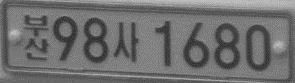0: (244, 23, 271, 71)
1: (152, 20, 178, 66)
6: (181, 21, 209, 68)
8: (212, 22, 240, 69), (82, 16, 109, 63)
9: (51, 14, 79, 61)
부산_V: (23, 13, 49, 61)
사: (112, 22, 139, 62)
